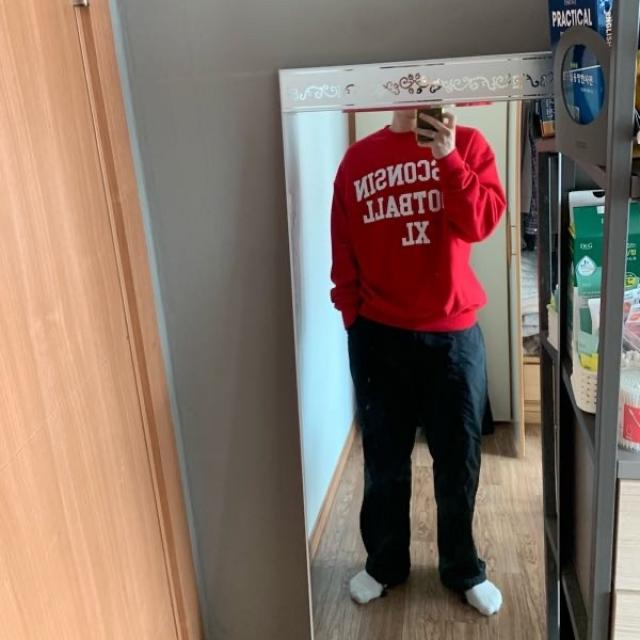cottonpants: (347, 317, 488, 589)
mtm: (326, 116, 505, 328)
